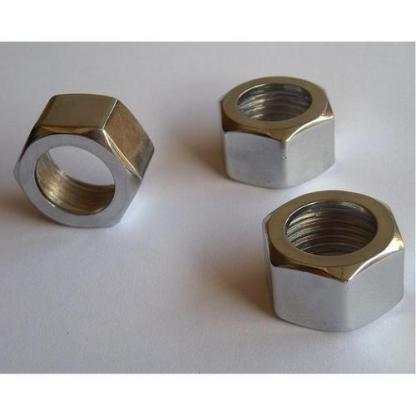FOD: (260, 188, 407, 338), (10, 91, 156, 233), (215, 74, 337, 194)
